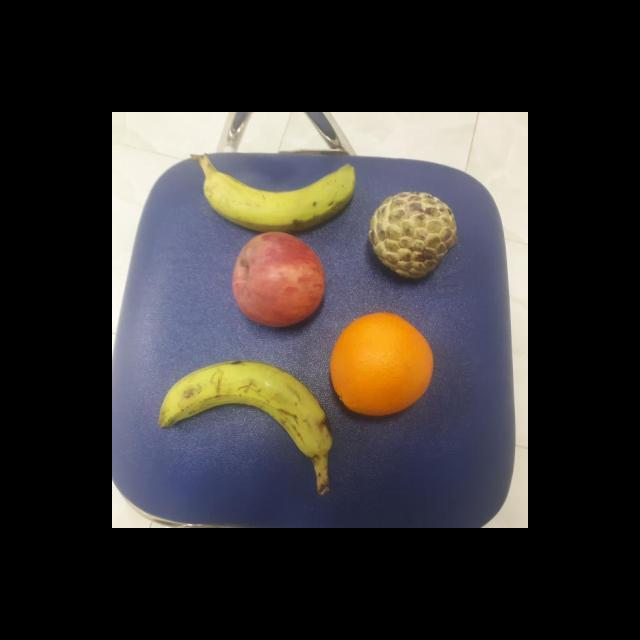Sakya fruit: (368, 190, 459, 280)
apple: (231, 230, 325, 327)
banana: (158, 358, 334, 454), (200, 163, 360, 230)
pear: (327, 312, 435, 416)
